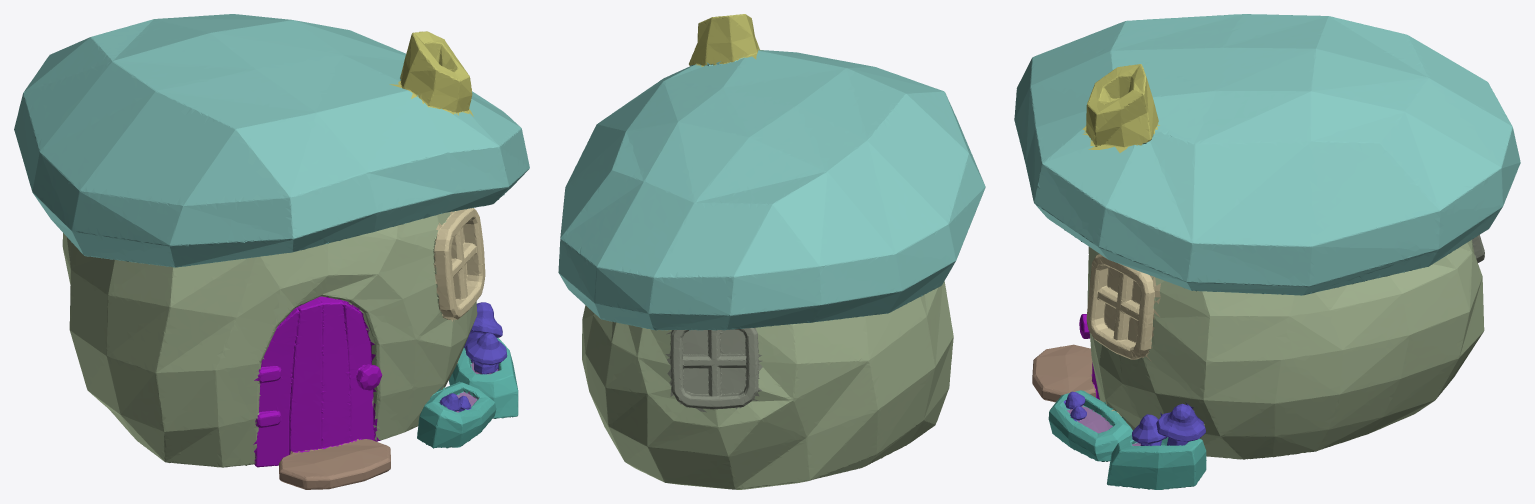
The picture shows the model from 3 angles, left to right: view 1: azimuth 30°, elevation 25°; view 2: azimuth 150°, elevation 25°; view 3: azimuth 270°, elevation 25°; orthographic projection. The views are drawn at different scales.
Visible parts, largest first — view 1: world; view 2: world; view 3: world.
Part boxes in pixels (x1=…): world: x1=14, y1=14, x2=529, y2=489; world: x1=558, y1=14, x2=985, y2=489; world: x1=1014, y1=14, x2=1520, y2=489.
Bounding box in the file's own units: 1.75 × 1.58 × 1.91.
